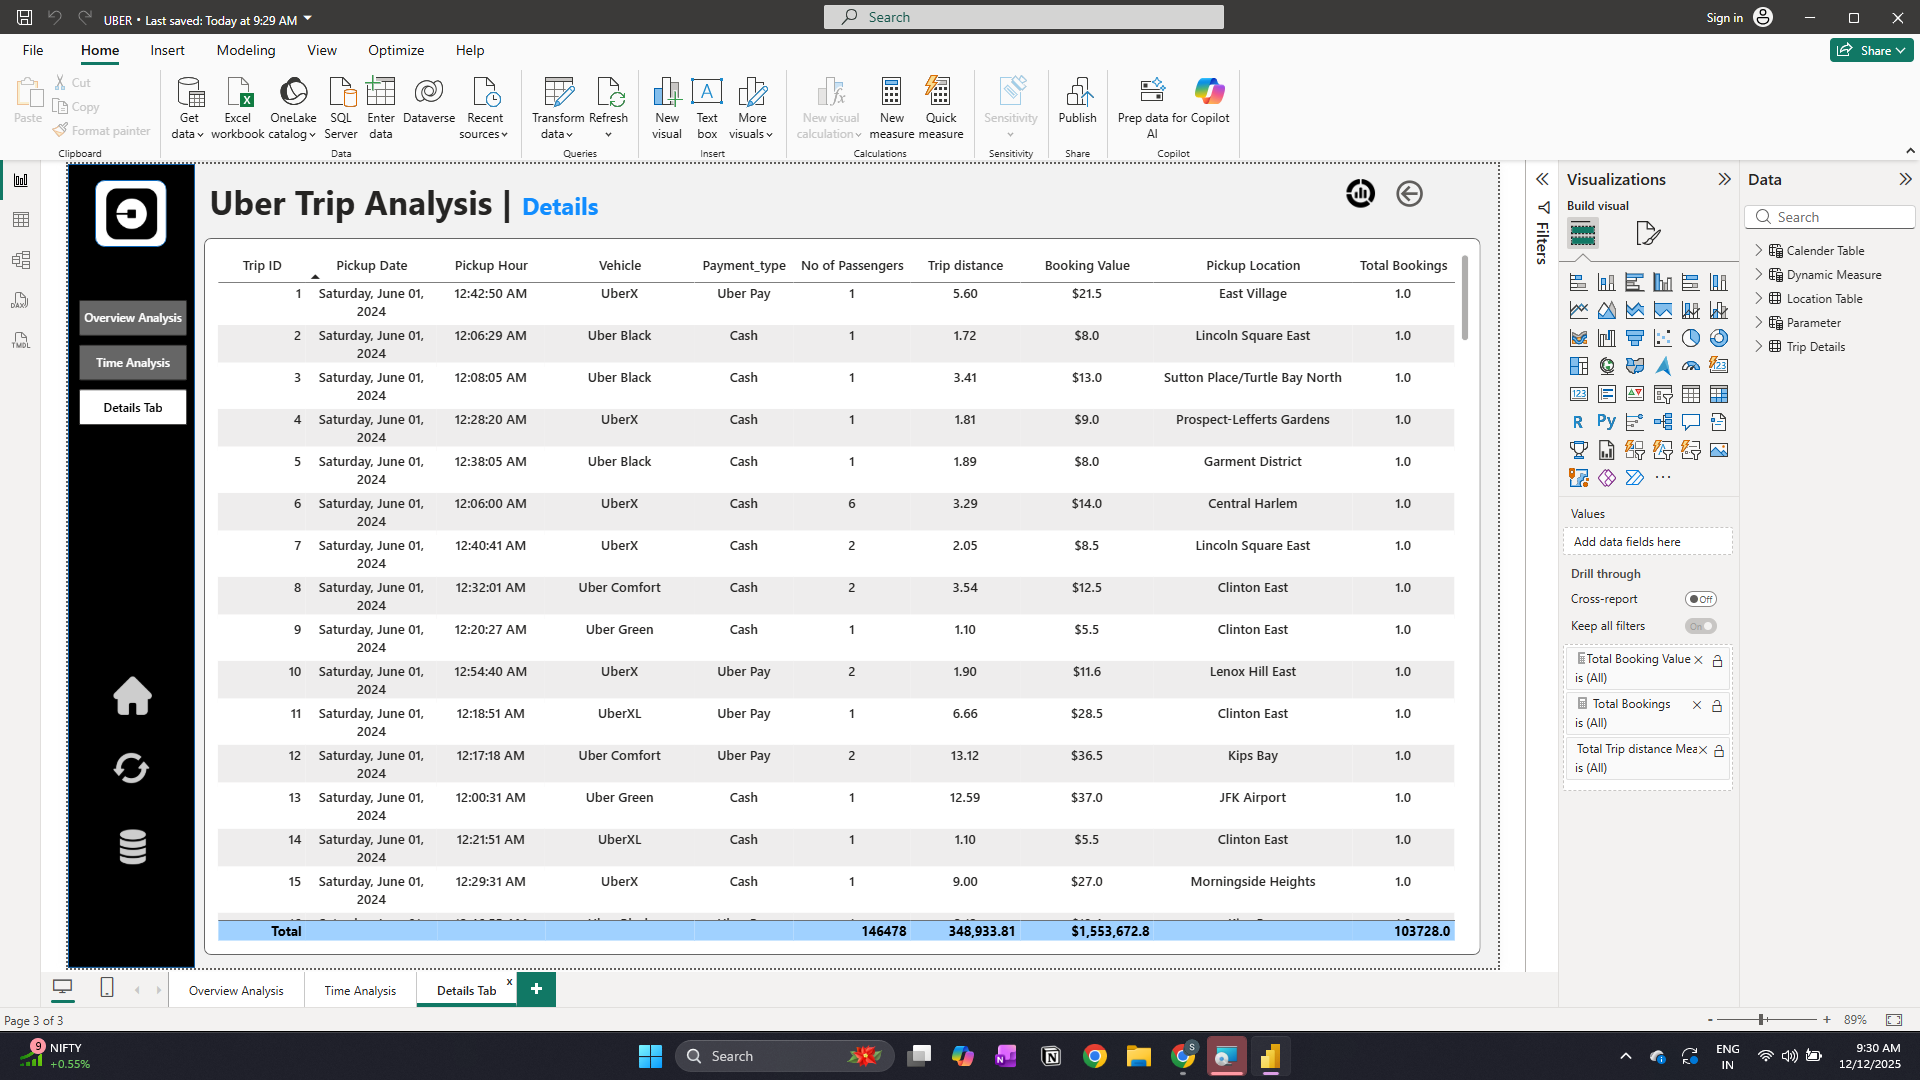

This screenshot's page, from the dashboard's own definition file:
{"tool":"powerbi","page":{"name":"Details Tab","canvas":[1600,900],"ordinal":2},"visuals":[{"type":"shape","box":[0,0,142,899.7],"z":0},{"type":"textbox","box":[152.8,12.6,666.8,69.5],"z":1000},{"type":"shape","box":[152.6,82.9,1428.9,802.6],"z":8000},{"type":"tableEx","fields":{"Values":["Trip Details.Trip ID","Trip Details.Pickup Date","Trip Details.Pickup Hour (HH MM SS)","Trip Details.Vehicle","Trip Details.Payment_type","Sum(Trip Details.passenger_count)","Trip Details.Total Trip distance Measure","Trip Details.Total Booking Value","Location Table.Location","Trip Details.Total Bookings"]},"box":[161.8,96.1,1410.5,777.6],"z":8001},{"type":"actionButton","box":[1481.6,13.2,100,39.5],"z":8002},{"type":"image","box":[1426.3,7.9,42.1,50],"z":8003},{"type":"shape","box":[30.3,18.4,80.3,75],"z":8004},{"type":"image","box":[35.5,22.4,71.1,67.1],"z":8005},{"type":"pageNavigator","box":[11.8,152.6,121.1,140.8],"z":8006},{"type":"image","box":[46.1,648.7,50,55.3],"z":8007},{"type":"image","box":[43.4,739.5,57.9,48.7],"z":8008},{"type":"image","box":[46.1,568.4,52.6,52.6],"z":8009}]}

Visuals, with their boxes on the page's 1600x900 design canvas (x1, y1, x2, y2). These are canvas units, not pixel positions in the 1920x1080 screenshot, which may show the page scaled, cropped or inside an application window:
shape: 0:0:142:900
textbox: 153:13:820:82
shape: 153:83:1582:886
tableEx - Trip Details.Trip ID x Trip Details.Pickup Date: 162:96:1572:874
actionButton: 1482:13:1582:53
image: 1426:8:1468:58
shape: 30:18:111:93
image: 36:22:107:90
pageNavigator: 12:153:133:293
image: 46:649:96:704
image: 43:740:101:788
image: 46:568:99:621
